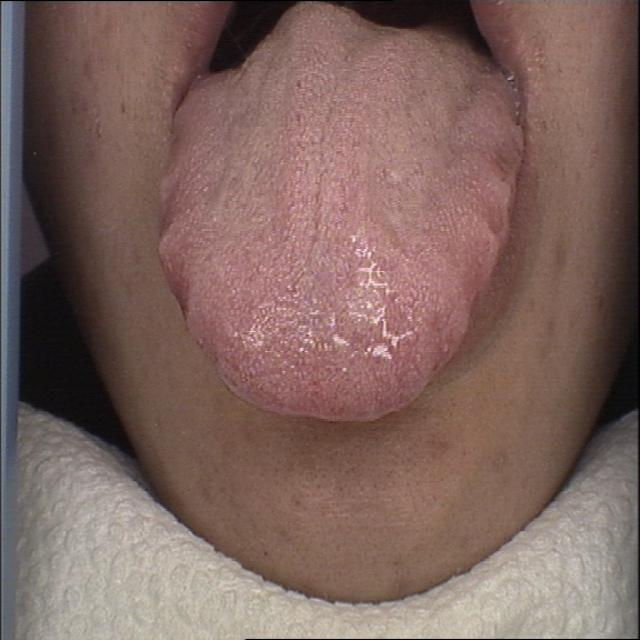tongue: (156, 16, 524, 426)
